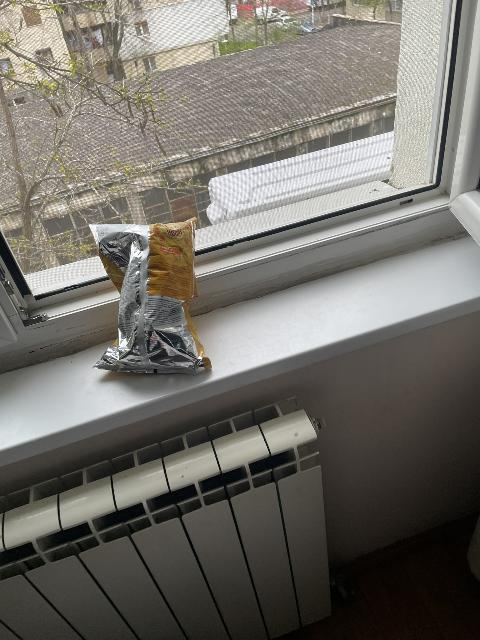Chio Hula Hoops Cheese 70g: (91, 217, 212, 373)
